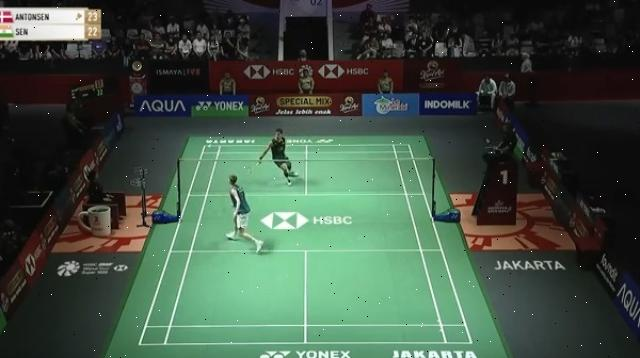Shuttlecock: (206, 140, 214, 150)
